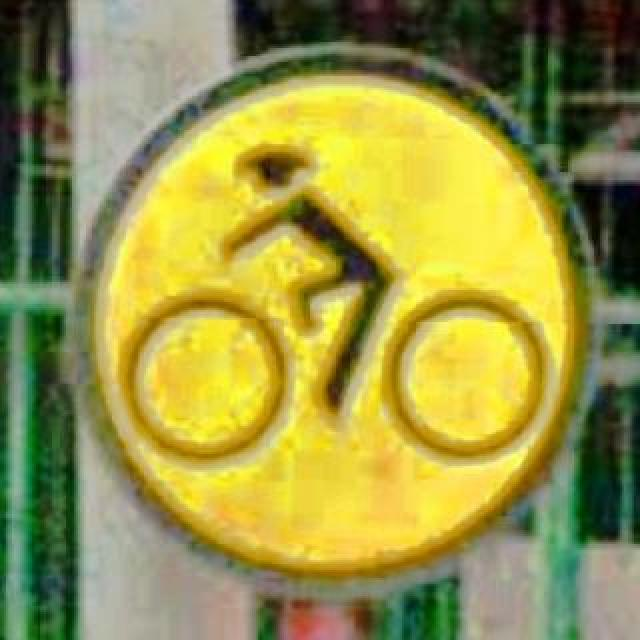bike lane: (70, 42, 598, 590)
